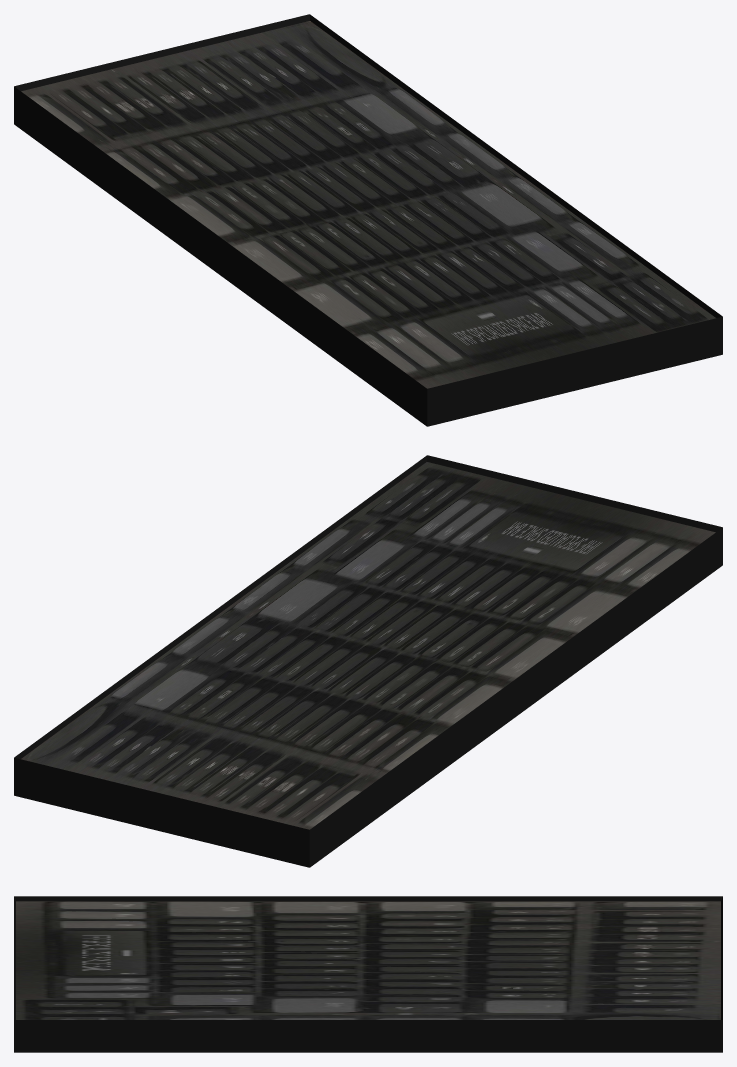
The model's file is keyboard.glb.
The picture shows the model from 3 angles, top to bottom: view 1: azimuth 30°, elevation 25°; view 2: azimuth 150°, elevation 25°; view 3: azimuth 270°, elevation 25°; orthographic projection. The views are drawn at different scales.
Parts seen in each view (by area): view 1: Plane, Cube; view 2: Plane, Cube; view 3: Plane, Cube.
Boxes of the visible parts, x1,y1,x2,y2 form: Plane: (21, 21, 715, 388); Cube: (14, 14, 722, 426); Plane: (21, 462, 715, 829); Cube: (14, 455, 722, 867); Plane: (16, 901, 720, 1019); Cube: (14, 896, 722, 1052).
Size of the model in its own units: 0.8264 by 0.1016 by 2.
Materials: 2 (1 with a texture image).
